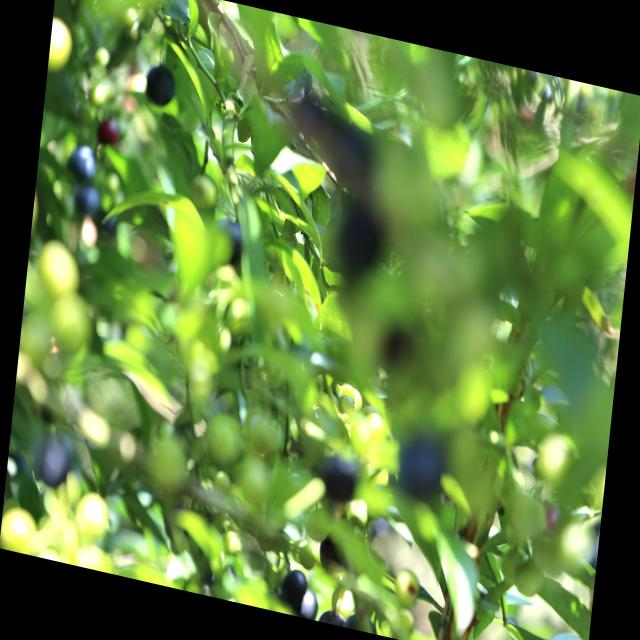blueberry: (36, 431, 76, 496), (61, 132, 101, 188), (275, 560, 311, 614), (139, 56, 176, 108), (73, 180, 105, 226), (292, 583, 322, 621)
blueberry-unripe: (48, 17, 74, 73)
